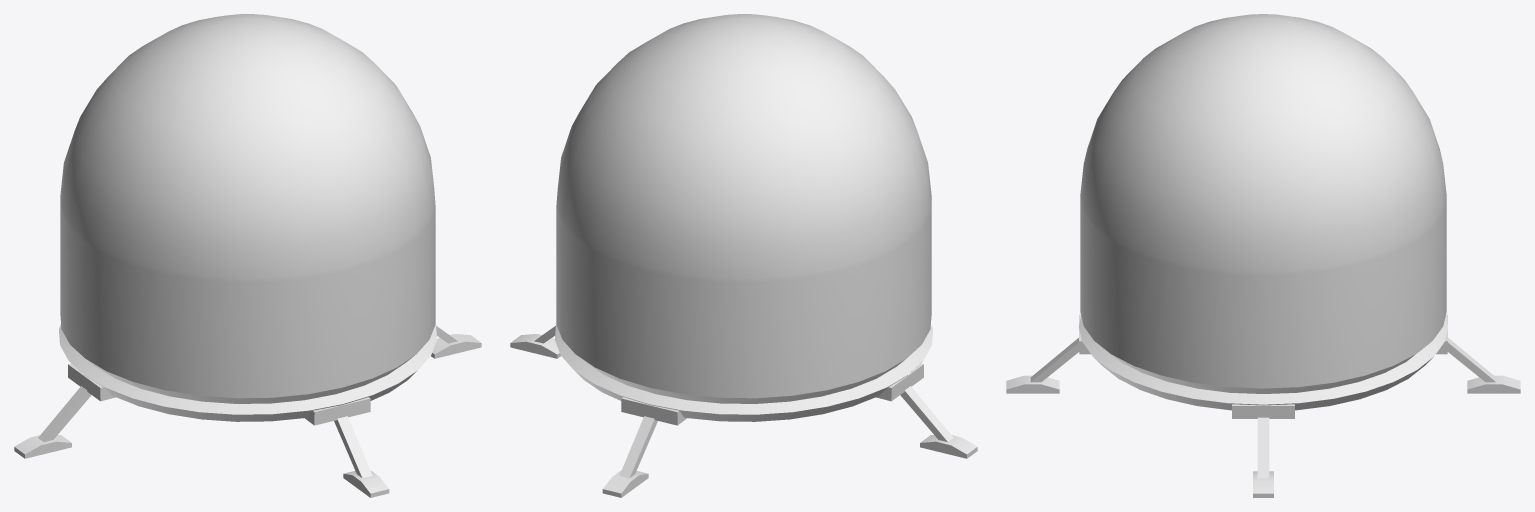
The model's file is drone_bay.glb.
3 renders of one model, left to right at view 1: azimuth 30°, elevation 25°; view 2: azimuth 150°, elevation 25°; view 3: azimuth 270°, elevation 25°, orthographic. The views are drawn at different scales.
Visible parts, largest first — view 1: Body; view 2: Body; view 3: Body.
Boxes of the visible parts, box(x1,y1,x2,y2) form: Body: box(14, 14, 481, 497); Body: box(510, 14, 977, 497); Body: box(1006, 14, 1520, 497).
Size of the model in its own units: 12 by 9.25 by 12.
1 material, 1 textured.
